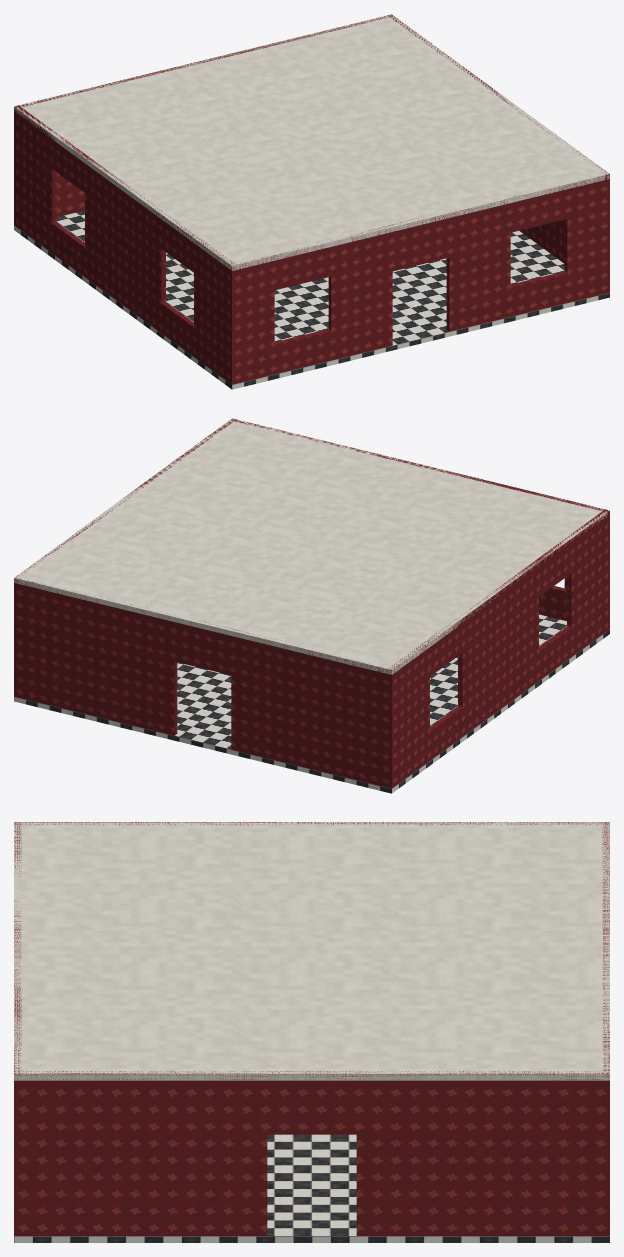
The model's file is room-hall.obj.
3 views of the same model, one above another, from view 1: azimuth 30°, elevation 25°; view 2: azimuth 150°, elevation 25°; view 3: azimuth 270°, elevation 25° (orthographic). The views are drawn at different scales.
Parts seen in each view (by area): view 1: ceiling, wall, floor; view 2: ceiling, wall, floor; view 3: ceiling, wall, floor.
Boxes of the visible parts, x1,y1,x2,y2 form: ceiling: [14, 14, 609, 270]; wall: [14, 14, 609, 384]; floor: [14, 210, 609, 389]; ceiling: [14, 418, 609, 674]; wall: [14, 418, 609, 788]; floor: [14, 614, 609, 793]; ceiling: [14, 822, 609, 1080]; wall: [14, 822, 609, 1235]; floor: [14, 1134, 609, 1242].
Size of the model in its own units: 16 by 5 by 16.
Materials: 3 (3 with a texture image).
